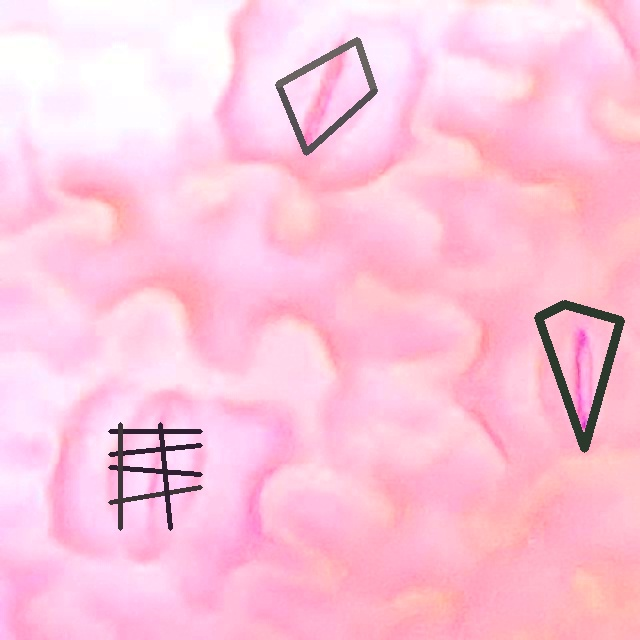close: (108, 423, 201, 530)
open: (534, 301, 624, 451), (276, 38, 377, 154)
